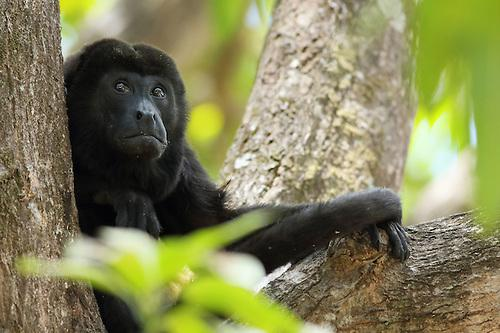monkey: (65, 39, 257, 238), (225, 188, 409, 275)
